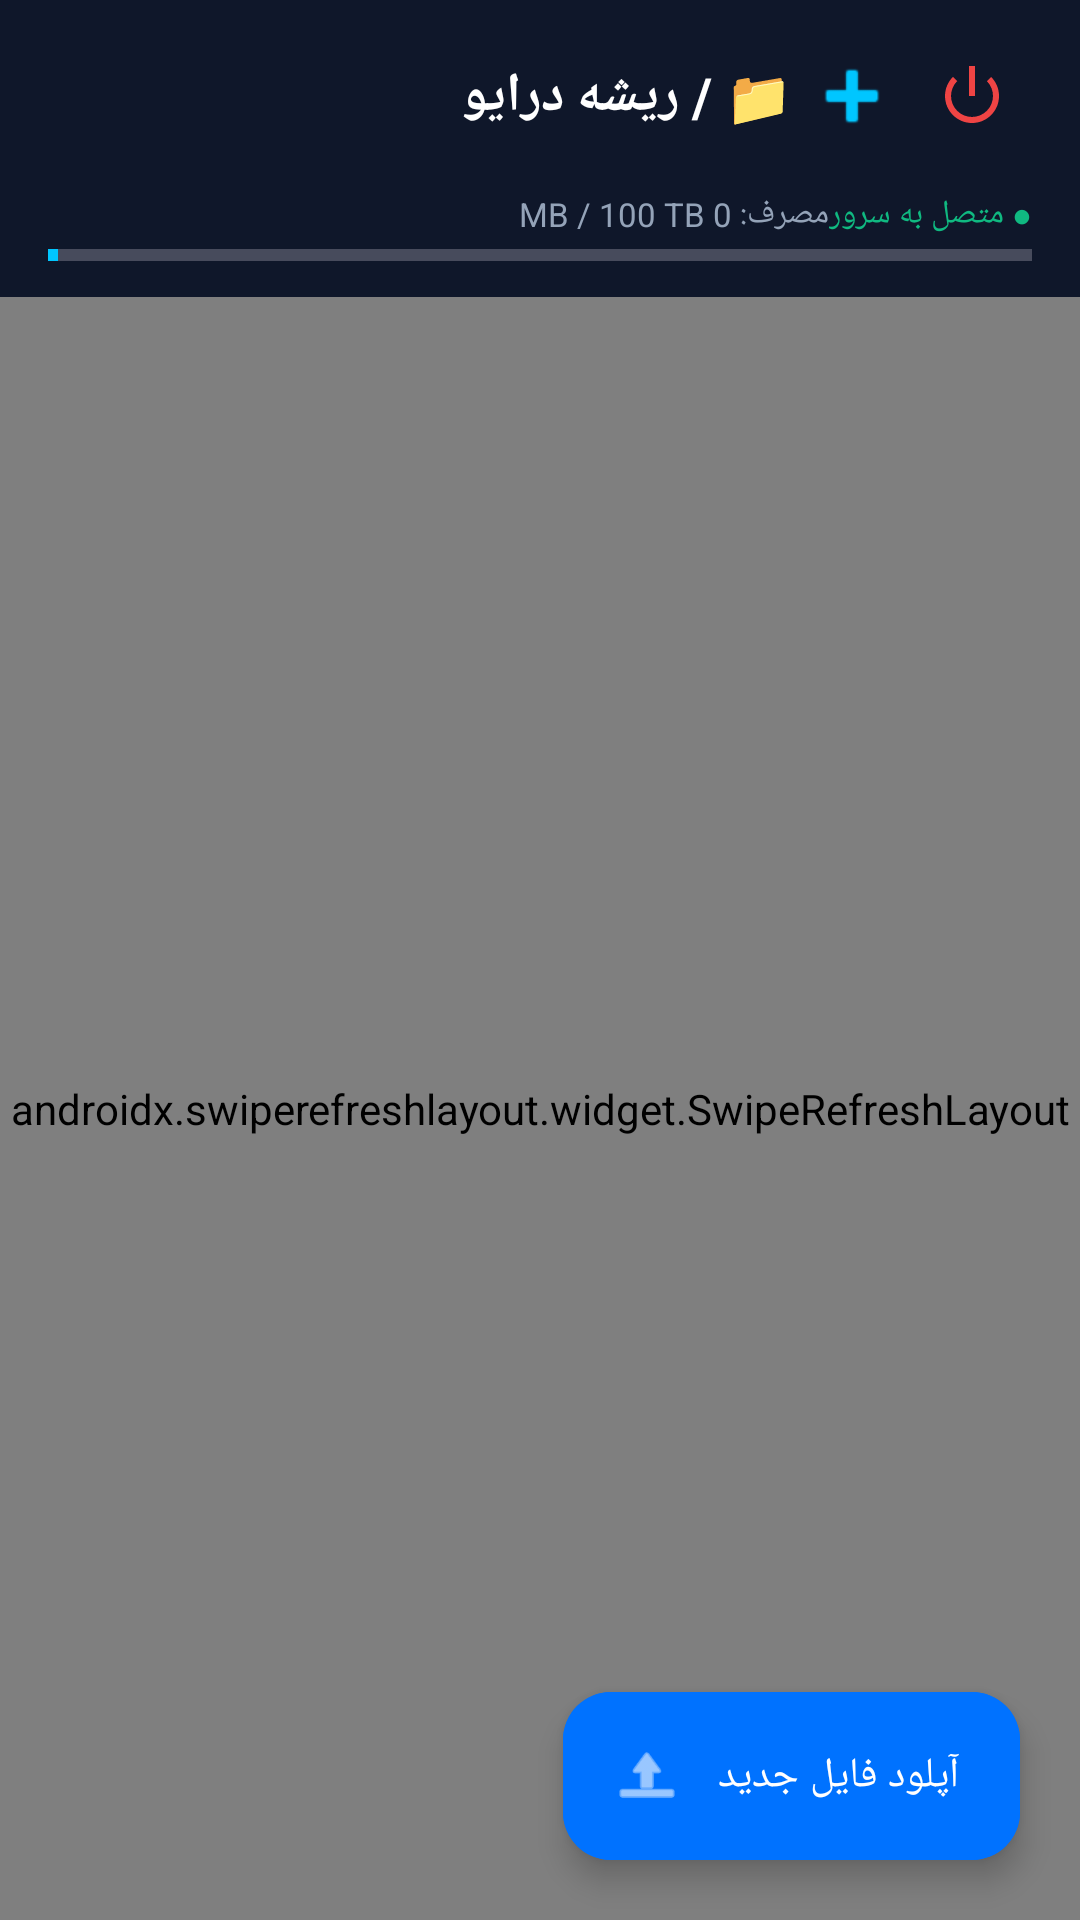

Icons on this 1080px×1920px Android screen, each with its box as {"left": x1, "top": y1, "right": x2, "bottom": y2}:
خروج: {"left": 945, "top": 66, "right": 999, "bottom": 123}
